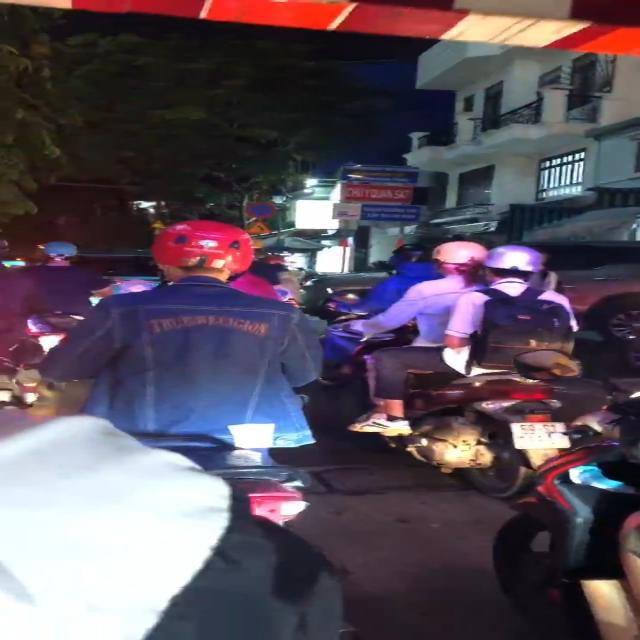Bien bao cam dung xe va do xe: (244, 201, 278, 219)
Bien bao cho ngoat nguy hiem: (242, 220, 274, 234)
